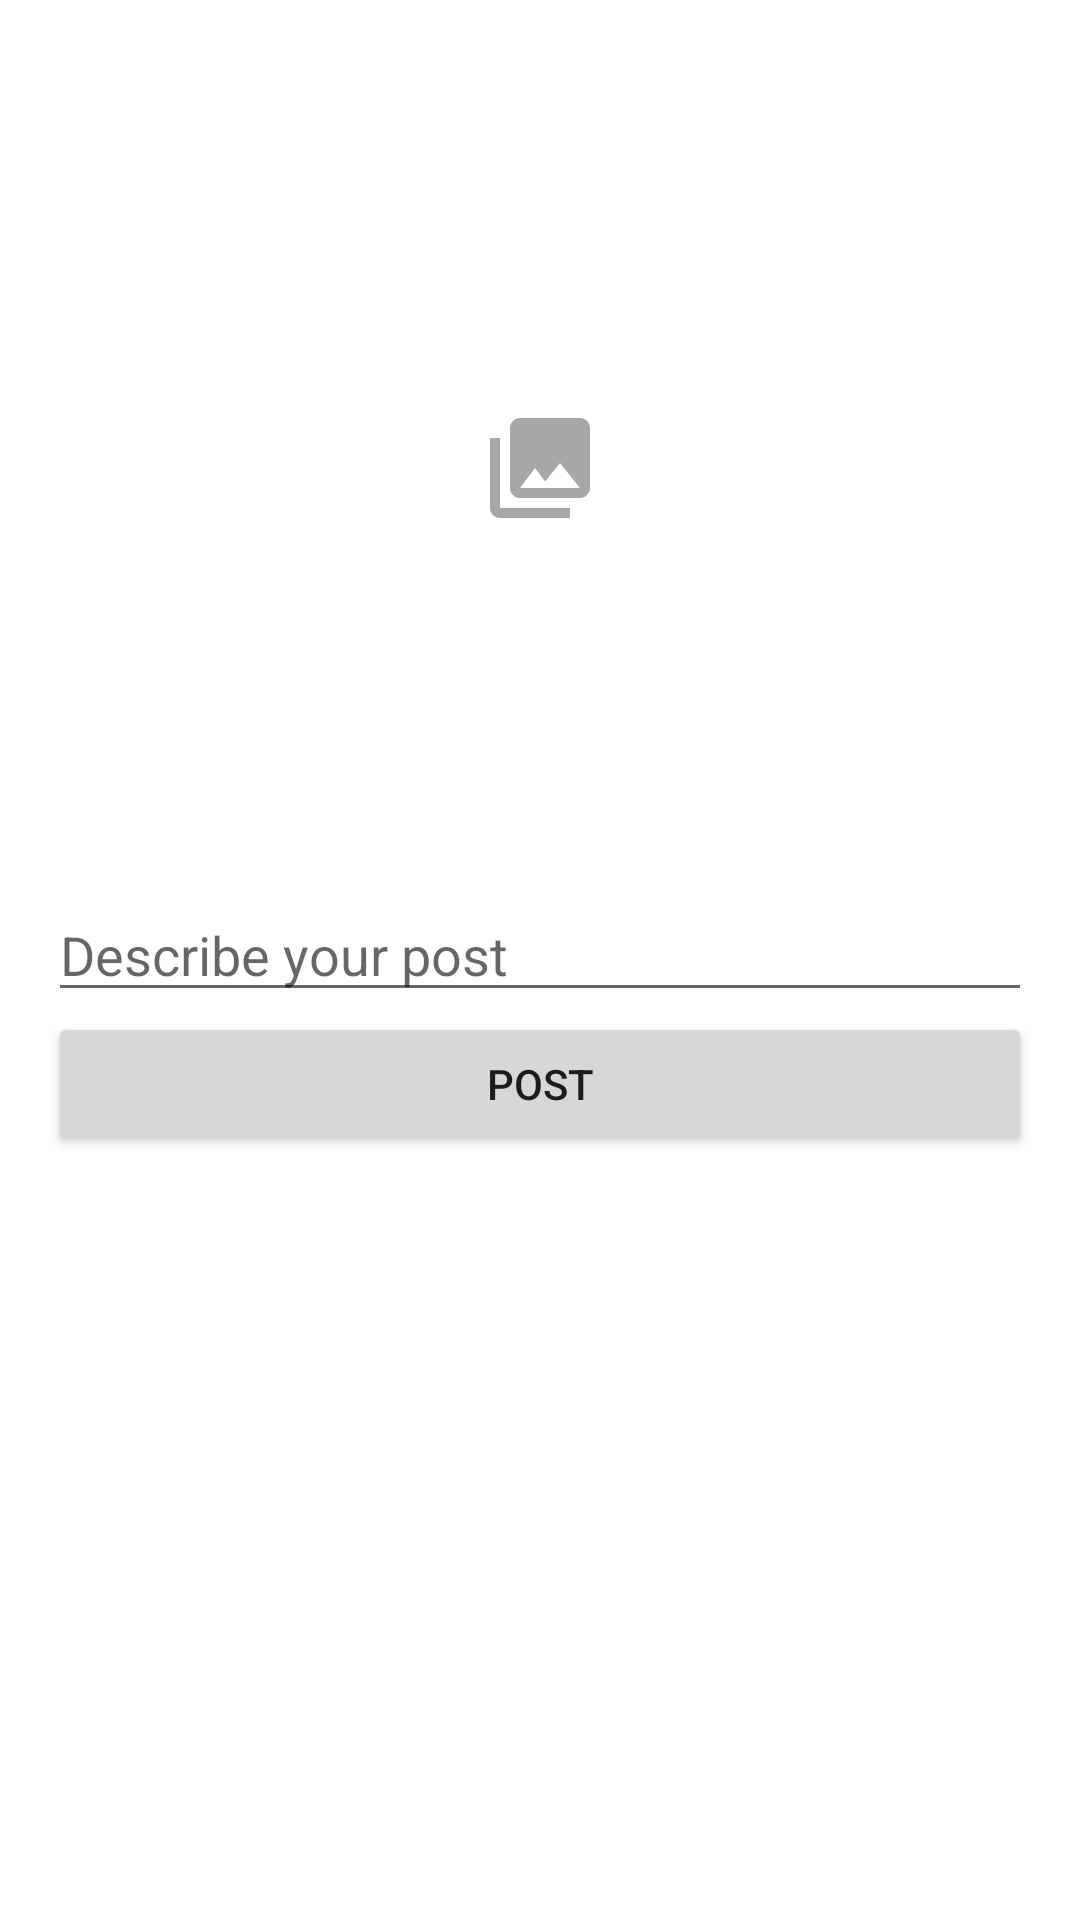

Icons on this 1080*1920 Android screen, each with its box as (x1, y1, x2, y2):
photo library: (490, 418, 590, 518)
